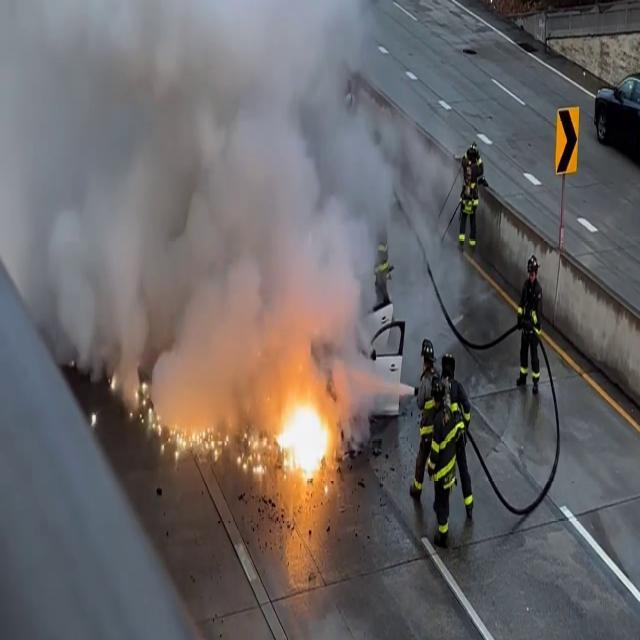Fire: (271, 378, 335, 489), (151, 395, 223, 460)
Smoke: (0, 0, 408, 368)
